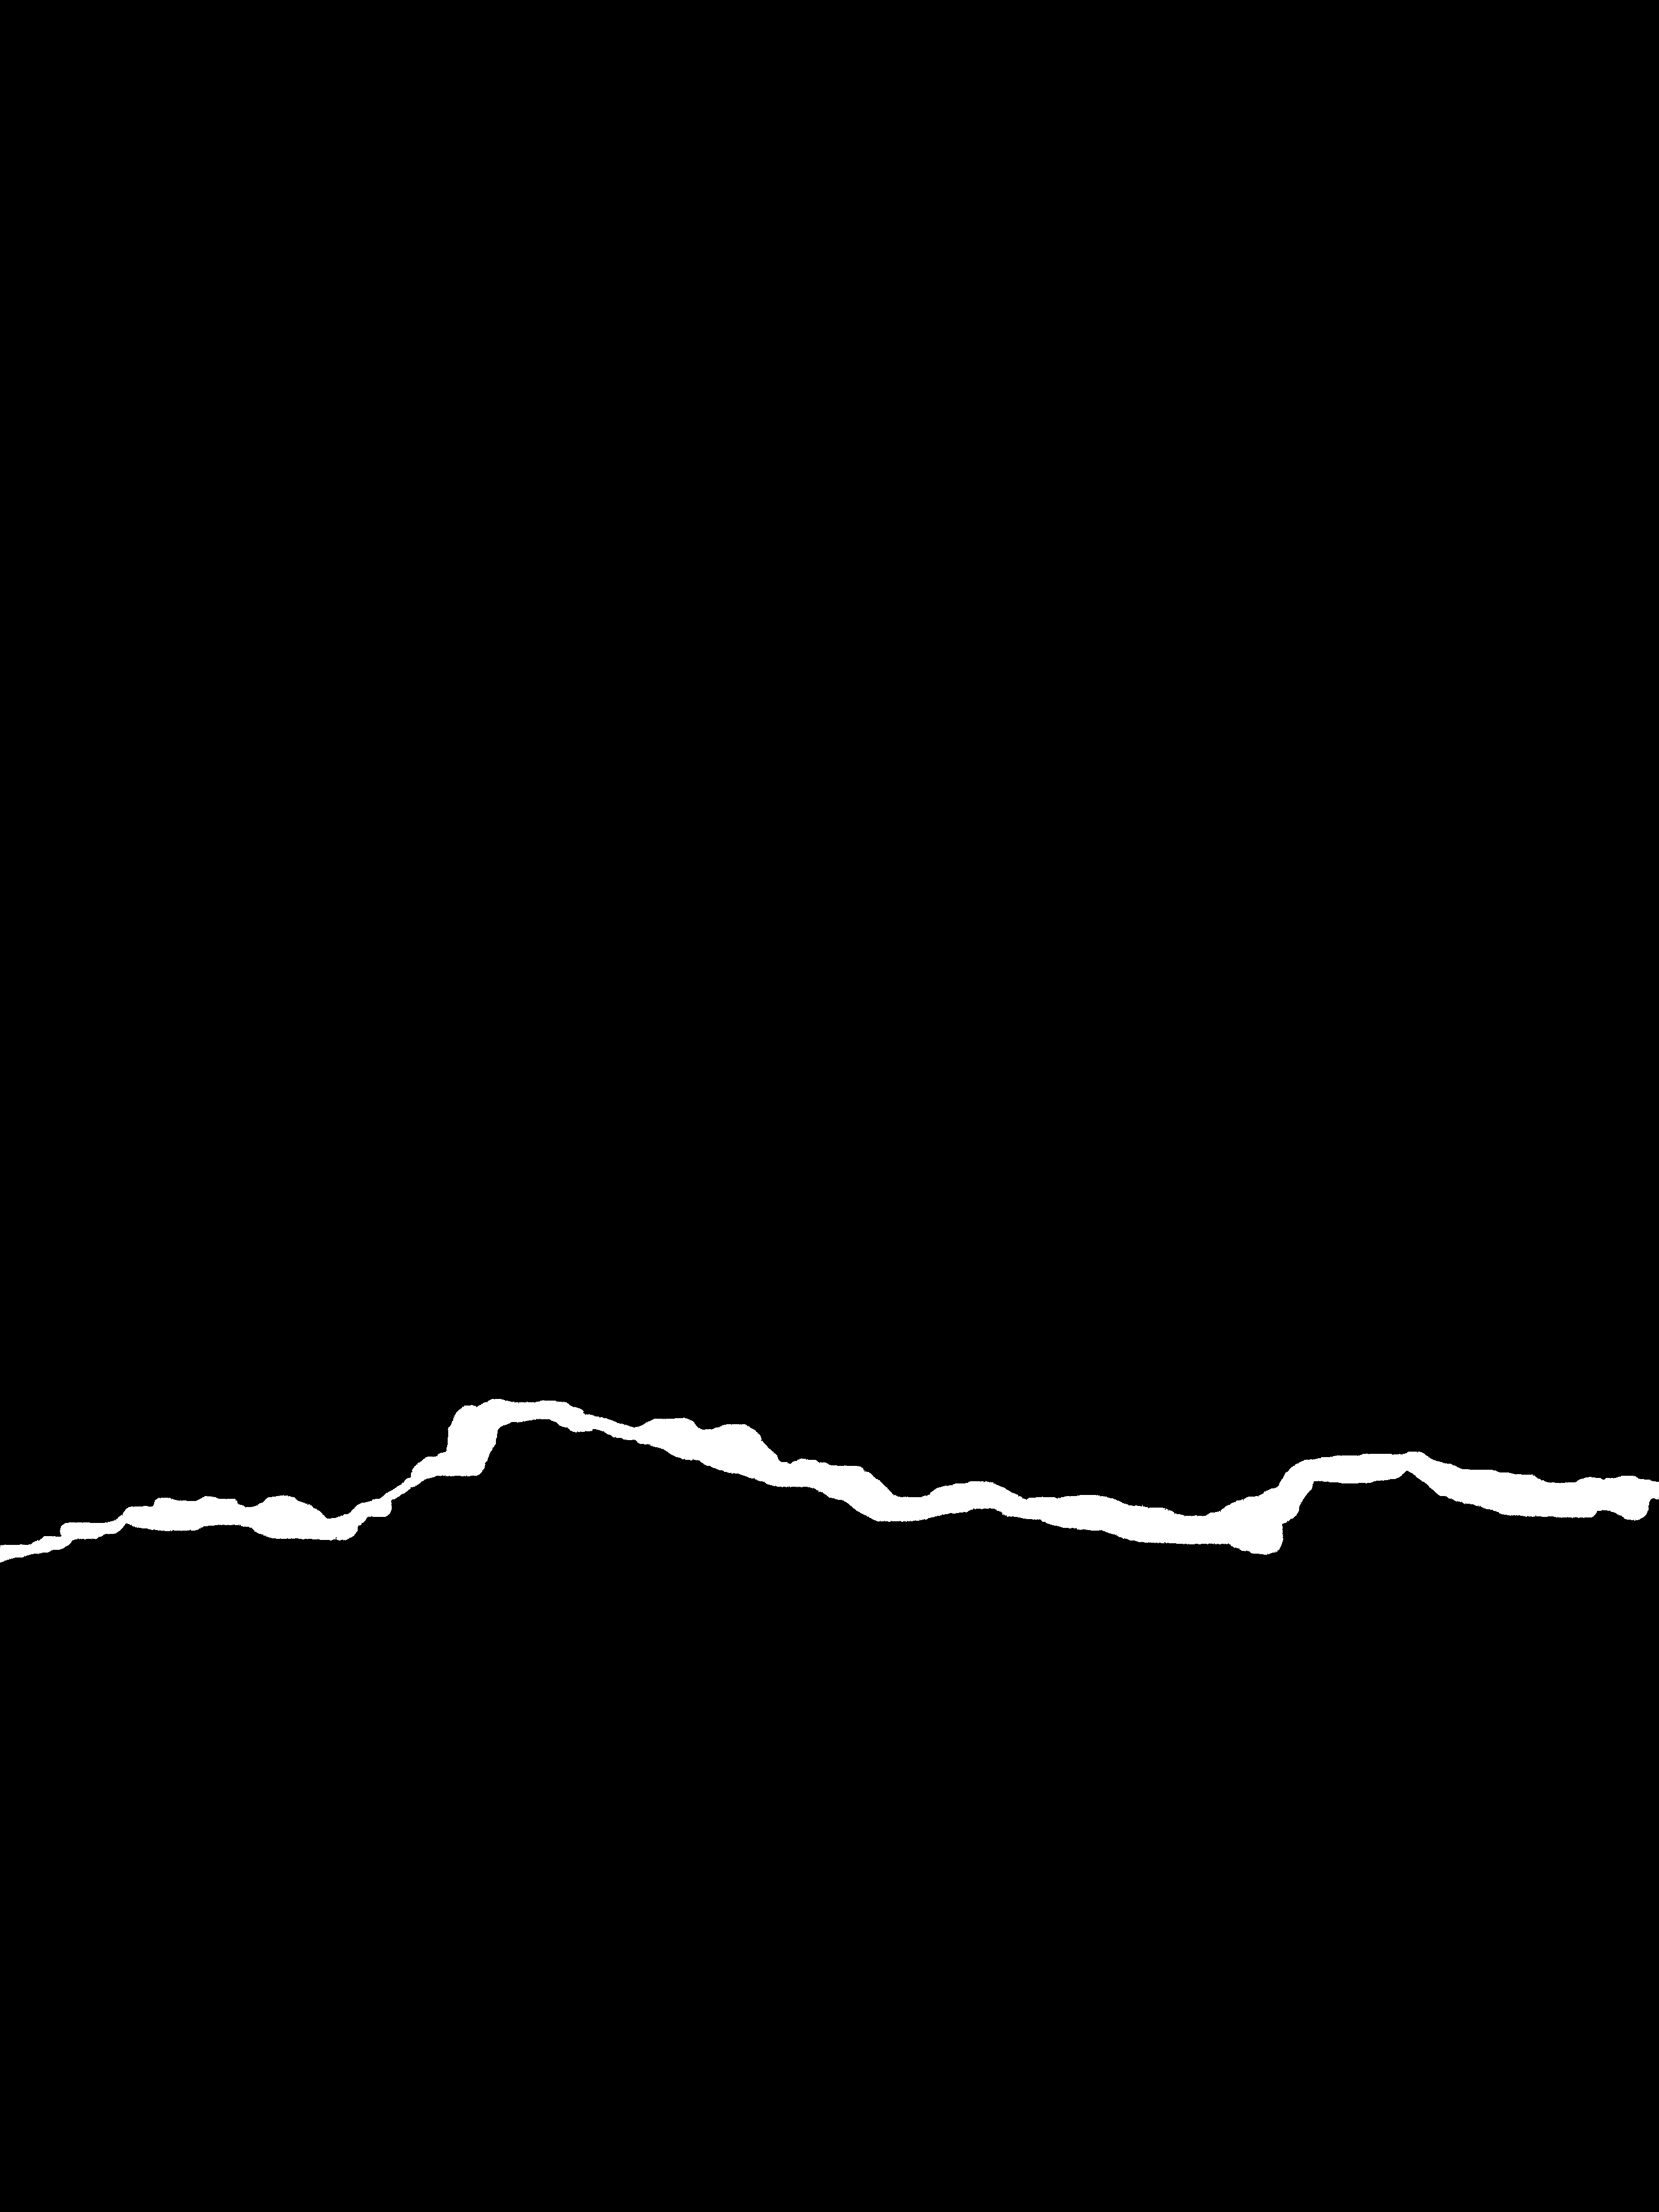Crack: (0, 1383, 1659, 1585)
